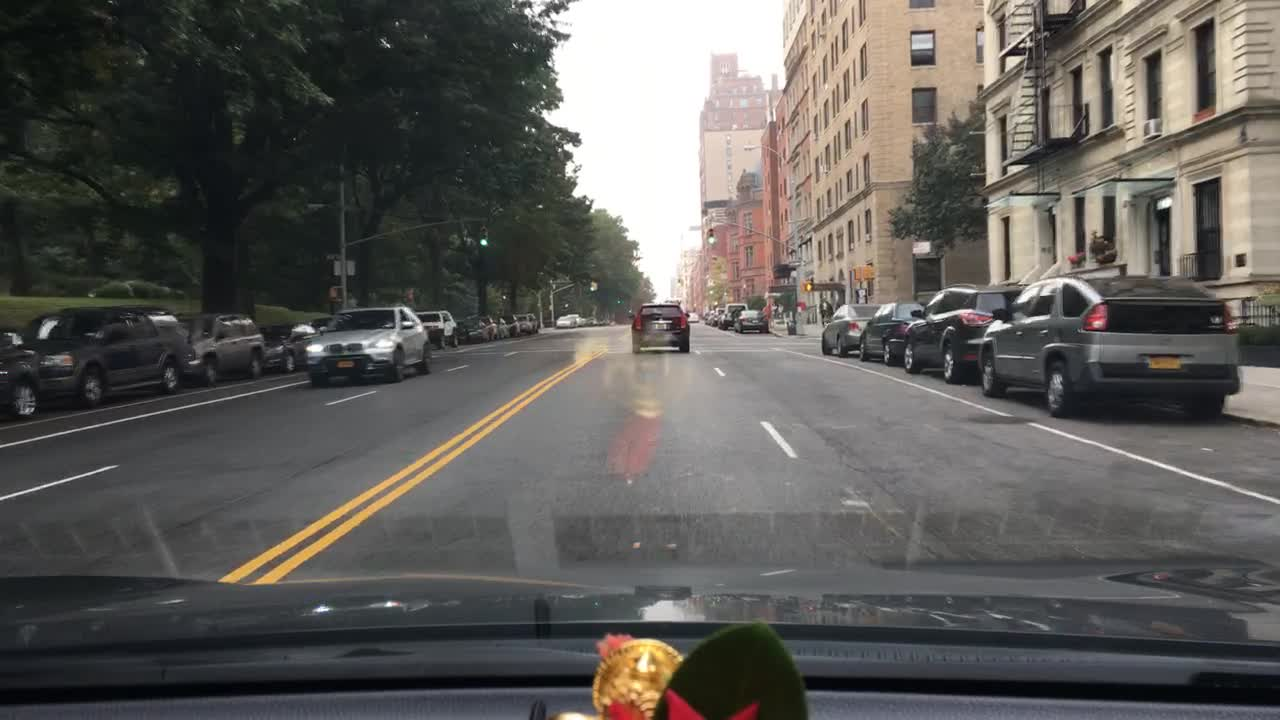car: (979, 274, 1242, 416), (17, 308, 185, 406), (905, 283, 1019, 381), (309, 304, 431, 388), (177, 311, 267, 386), (855, 301, 928, 366), (0, 324, 41, 416), (822, 300, 880, 361), (630, 303, 691, 356), (264, 321, 316, 376), (421, 309, 460, 348), (732, 308, 767, 331), (722, 301, 746, 333), (471, 314, 496, 336), (460, 320, 487, 339), (501, 316, 520, 335), (555, 314, 575, 328), (313, 314, 330, 329), (527, 314, 539, 334), (497, 320, 507, 340), (519, 314, 529, 333), (706, 310, 716, 324), (576, 315, 588, 325), (688, 311, 696, 323), (716, 305, 721, 324), (591, 316, 601, 323)
traffic light: (326, 288, 339, 300), (706, 227, 714, 243), (480, 227, 486, 247), (803, 283, 812, 293)
traffic sign: (334, 258, 355, 276), (854, 267, 875, 279), (787, 258, 807, 267)
